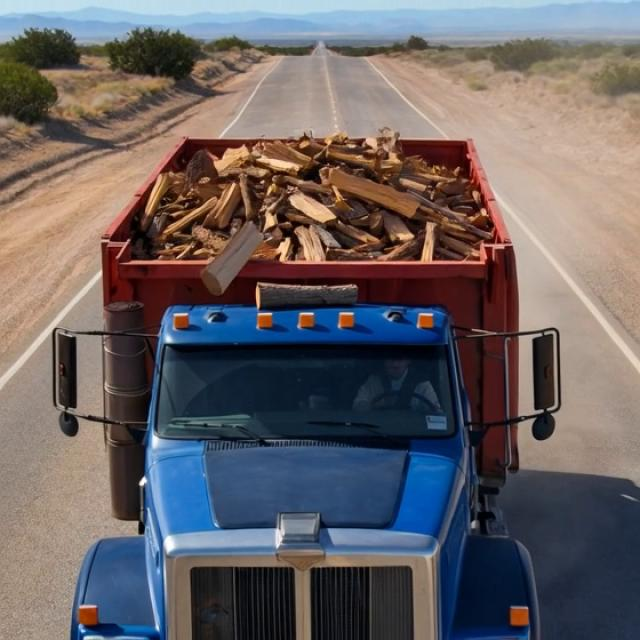Box: (100, 126, 516, 281)
Truck: (51, 121, 575, 634)
